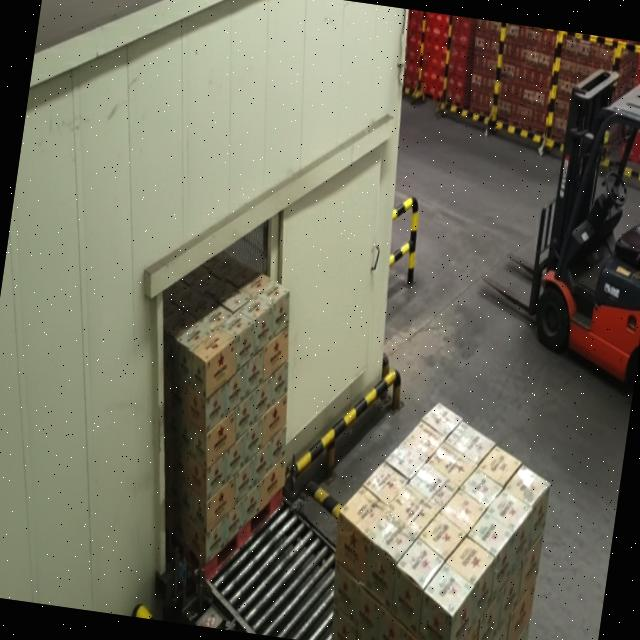pallet: (110, 232, 320, 599), (312, 385, 564, 640)
